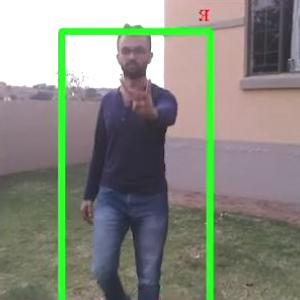takeoff-hand: (123, 72, 165, 123)
